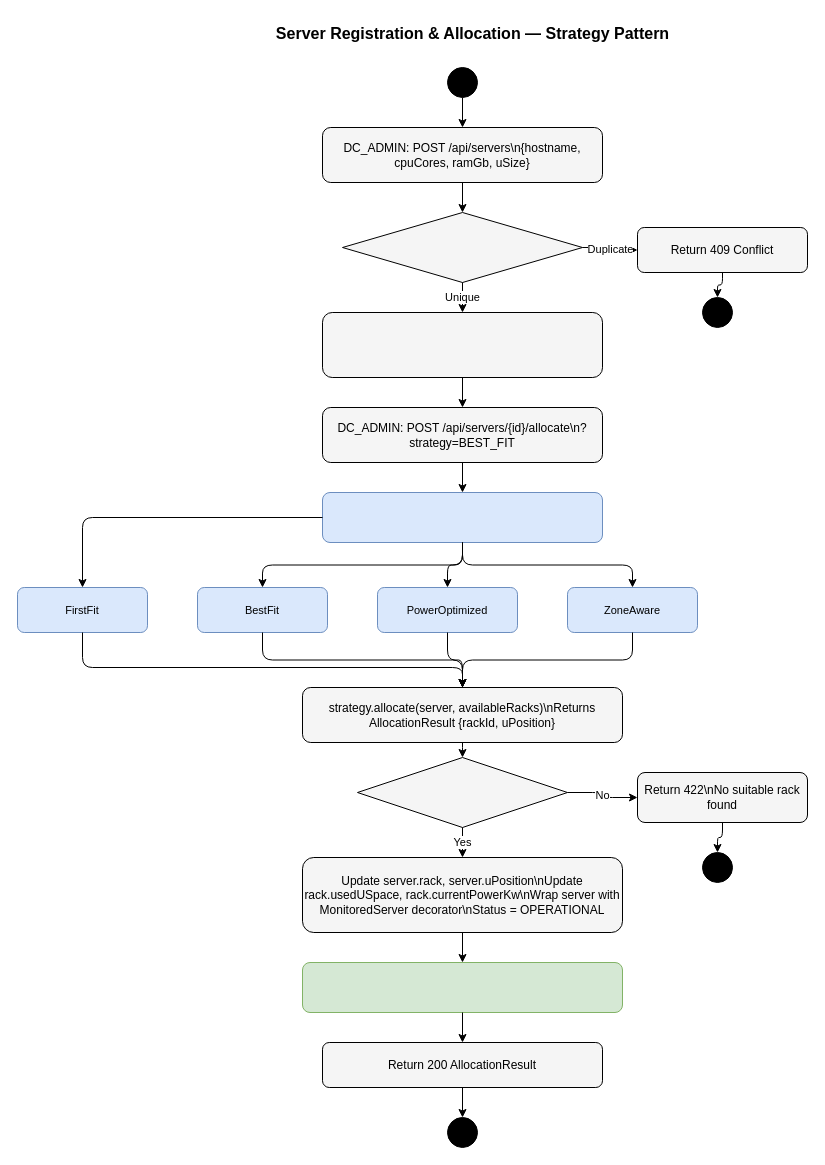
The diagram is 825 pixels wide and 1165 high, and some of its shapes have lost their labels. Each missing label, with the centre of its shape:
AllocationContext selects strategy: point (462, 517)
Check hostname unique in DB: point (462, 247)
Rack found?: point (462, 792)
Rack Observer notifies:\nAlertObserver, DashboardObserver: point (462, 987)
ServerDecoratorFactory.wrap(server, BARE)\nStatus = UNALLOCATED\nSave to DB: point (462, 345)
